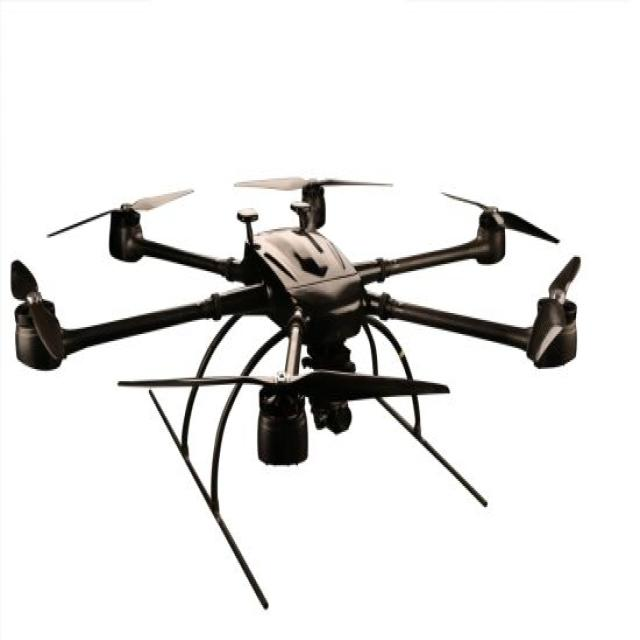drone: (0, 132, 640, 551)
